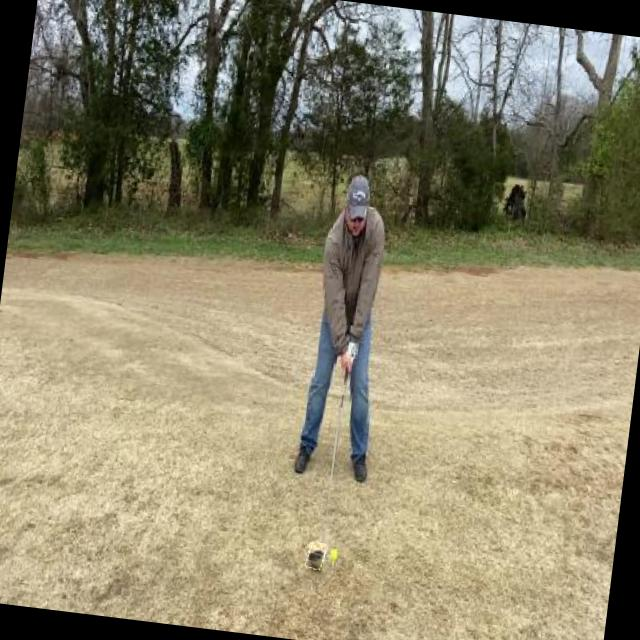club head: (306, 541, 326, 570)
